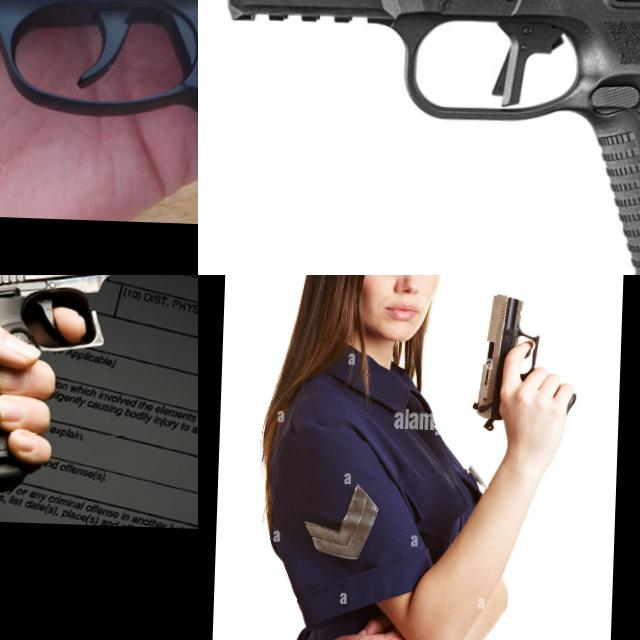handgun: (199, 0, 640, 275), (0, 275, 198, 516), (0, 0, 198, 229), (468, 288, 544, 434)
